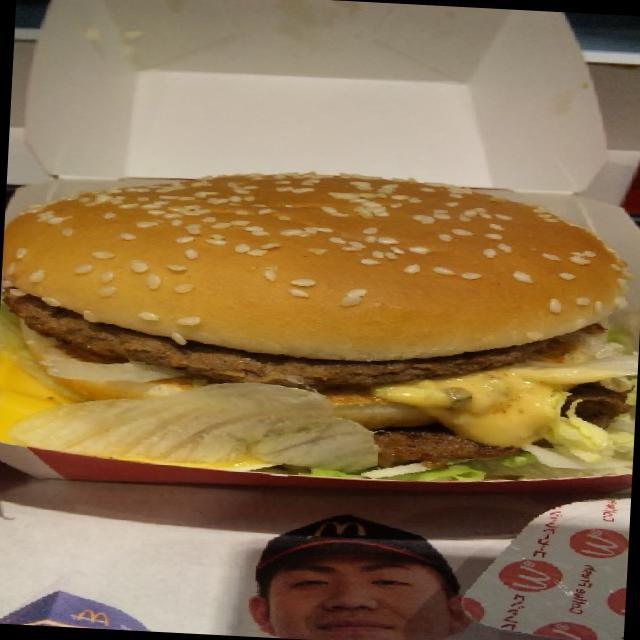Hamburger: (0, 164, 640, 492)
